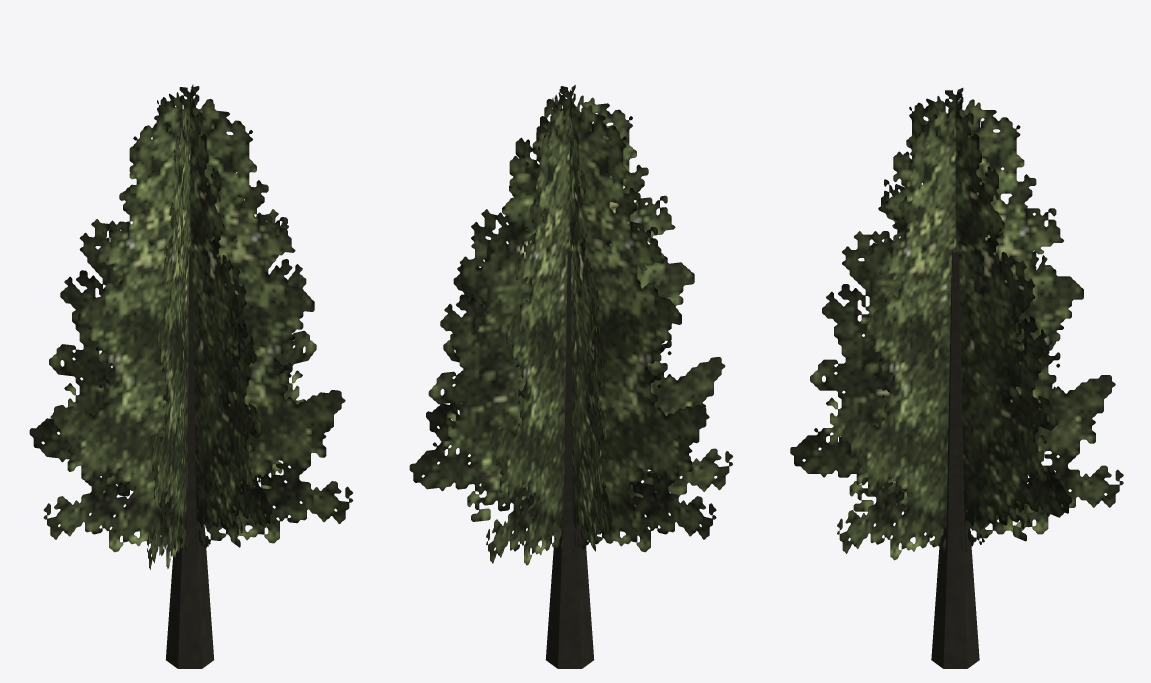
File: tree11.glb
3 renders of one model, left to right at view 1: azimuth 30°, elevation 25°; view 2: azimuth 150°, elevation 25°; view 3: azimuth 270°, elevation 25°, orthographic.
Visible parts, largest first — view 1: tree11; view 2: tree11; view 3: tree11.
Boxes of the visible parts, x1,y1,x2,y2 form: tree11: (29,84,352,668); tree11: (409,85,732,668); tree11: (790,88,1123,668).
Bounding box in the file's own units: 7.2 × 12.5 × 7.2.
1 material, 1 textured.
